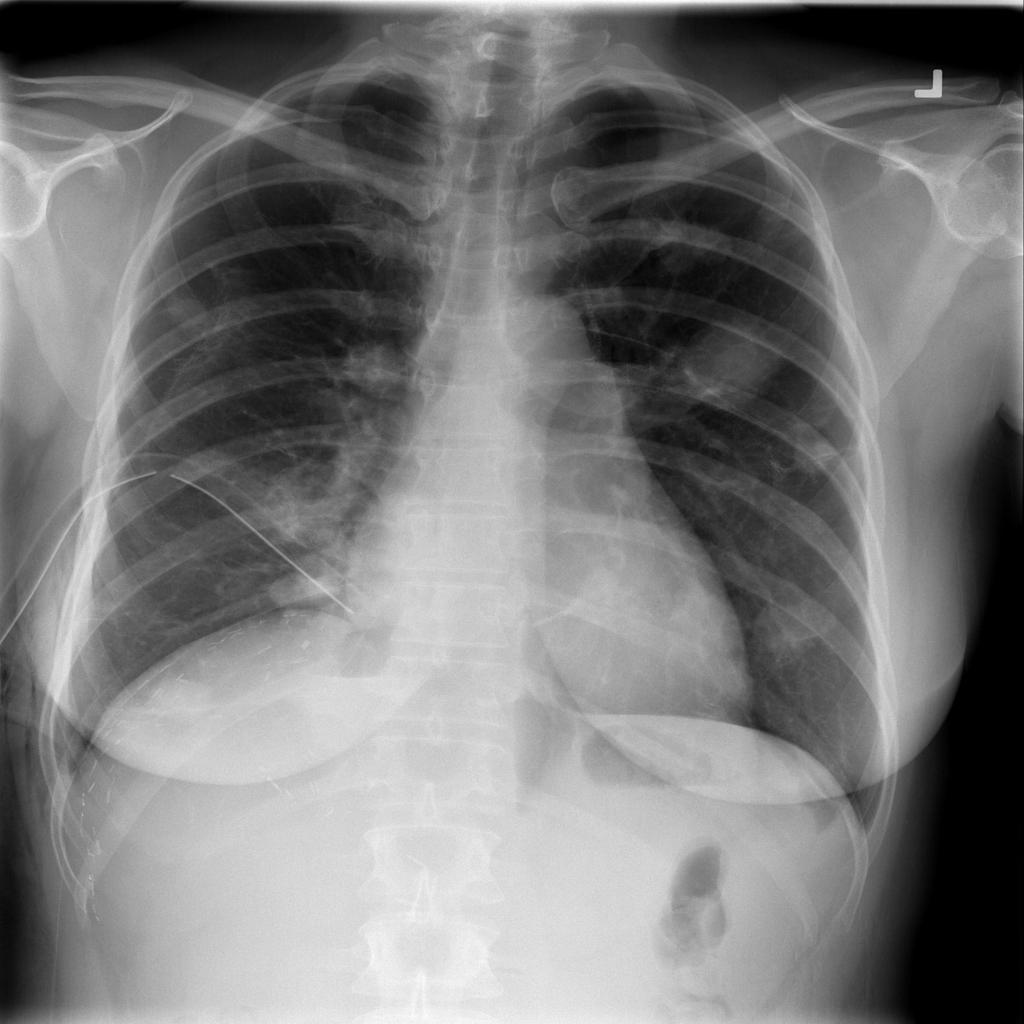nodule: (652, 296, 800, 425), (734, 578, 845, 678), (333, 328, 414, 403), (139, 669, 230, 734), (775, 419, 854, 490), (147, 279, 228, 345)
